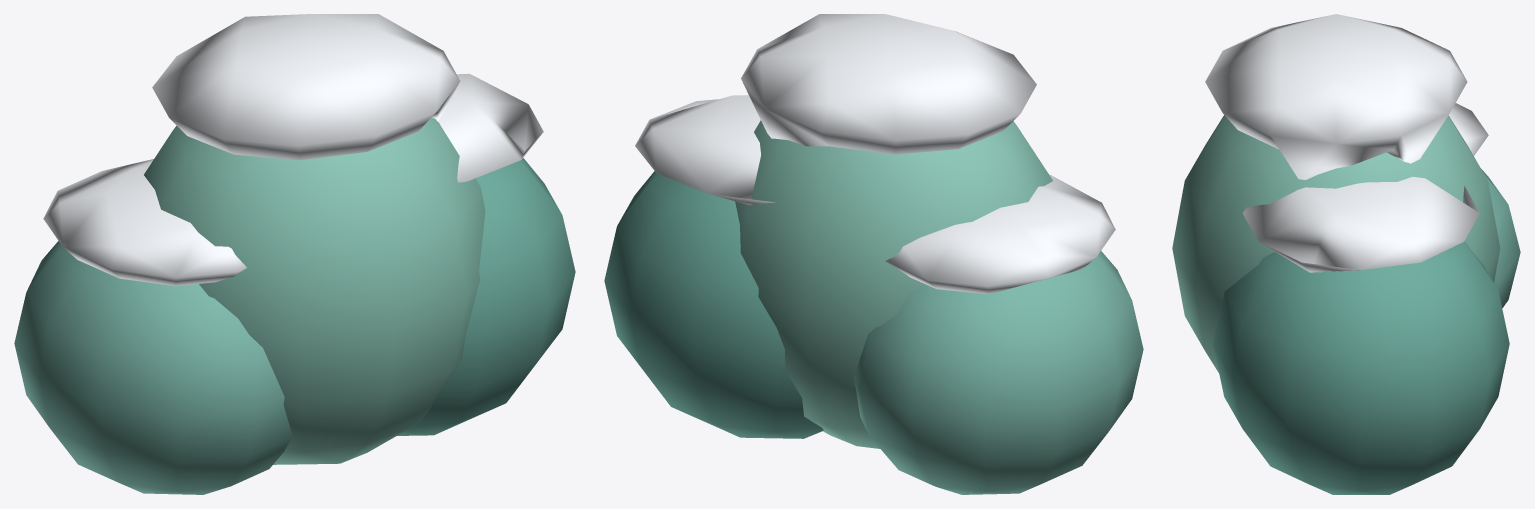
Rendered from shrub_winter_low.glb.
3 renders of one model, left to right at view 1: azimuth 30°, elevation 25°; view 2: azimuth 150°, elevation 25°; view 3: azimuth 270°, elevation 25°, orthographic. The views are drawn at different scales.
Bounding box in the file's own units: 1.77 × 1.39 × 1.11.
